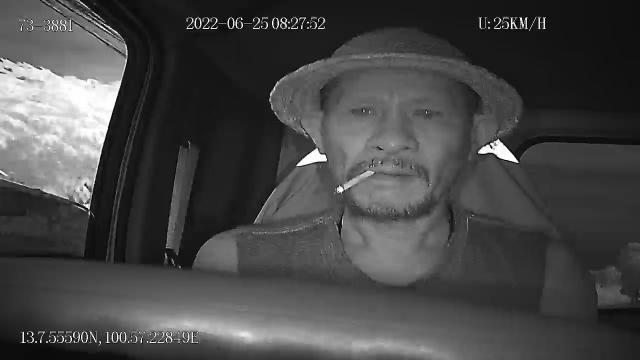SafeDriving: (342, 94, 383, 122), (404, 99, 448, 125)
Smoking: (336, 166, 376, 194)
